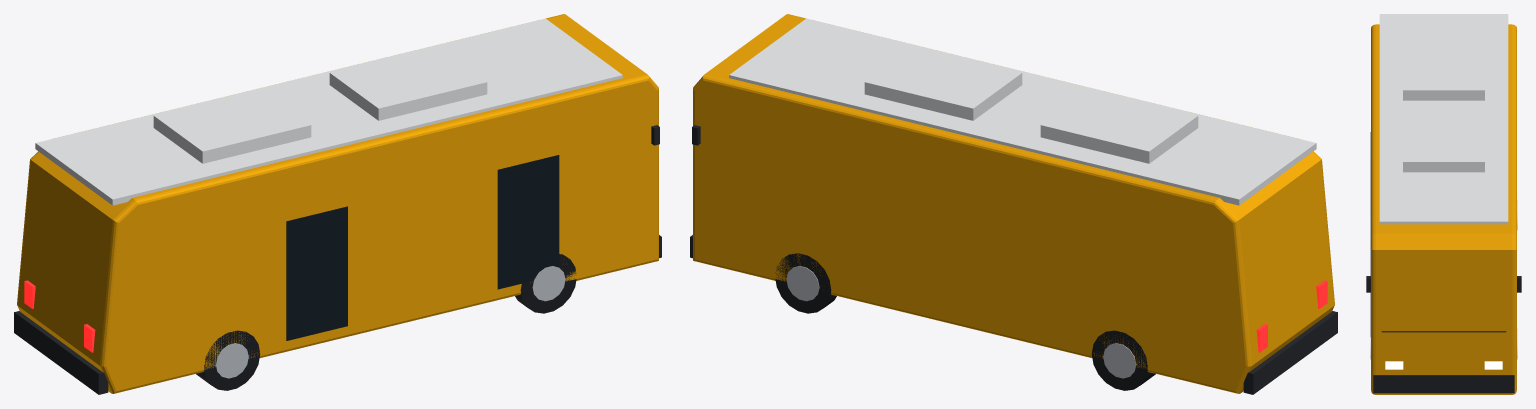
File: sitp_amarillo.glb
The picture shows the model from 3 angles, left to right: view 1: azimuth 30°, elevation 25°; view 2: azimuth 150°, elevation 25°; view 3: azimuth 270°, elevation 25°; orthographic projection. The views are drawn at different scales.
Size of the model in its own units: 9.6 by 3.69 by 2.74.
